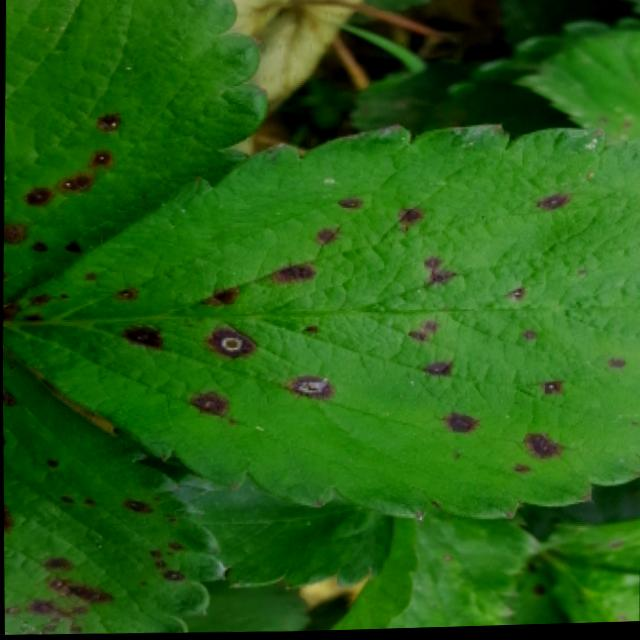Leaf Spot: (2, 124, 640, 526), (2, 0, 268, 301), (2, 349, 226, 634), (509, 31, 640, 147), (534, 538, 639, 627), (186, 582, 309, 633), (490, 554, 567, 629)
